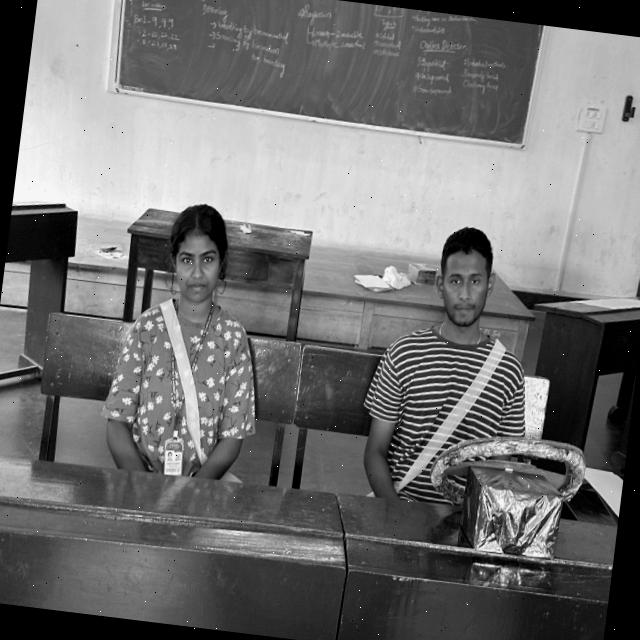seatbelt: (348, 305, 532, 520), (101, 290, 260, 486)
